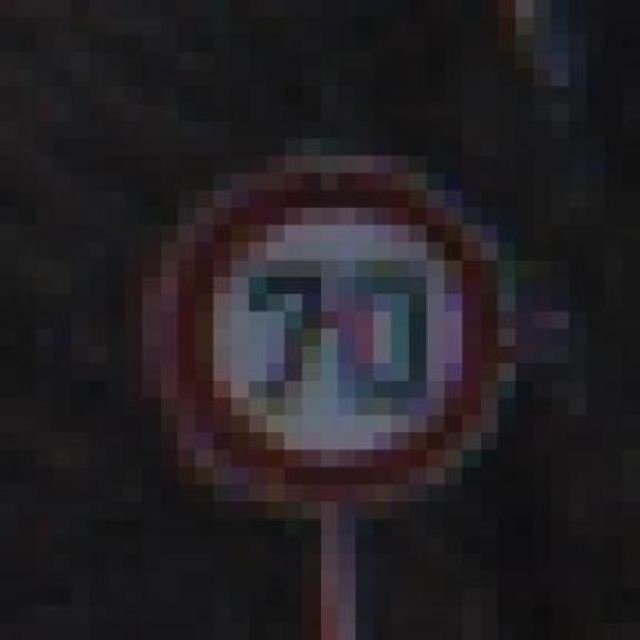forb_speed_over_70: (172, 170, 506, 485)
